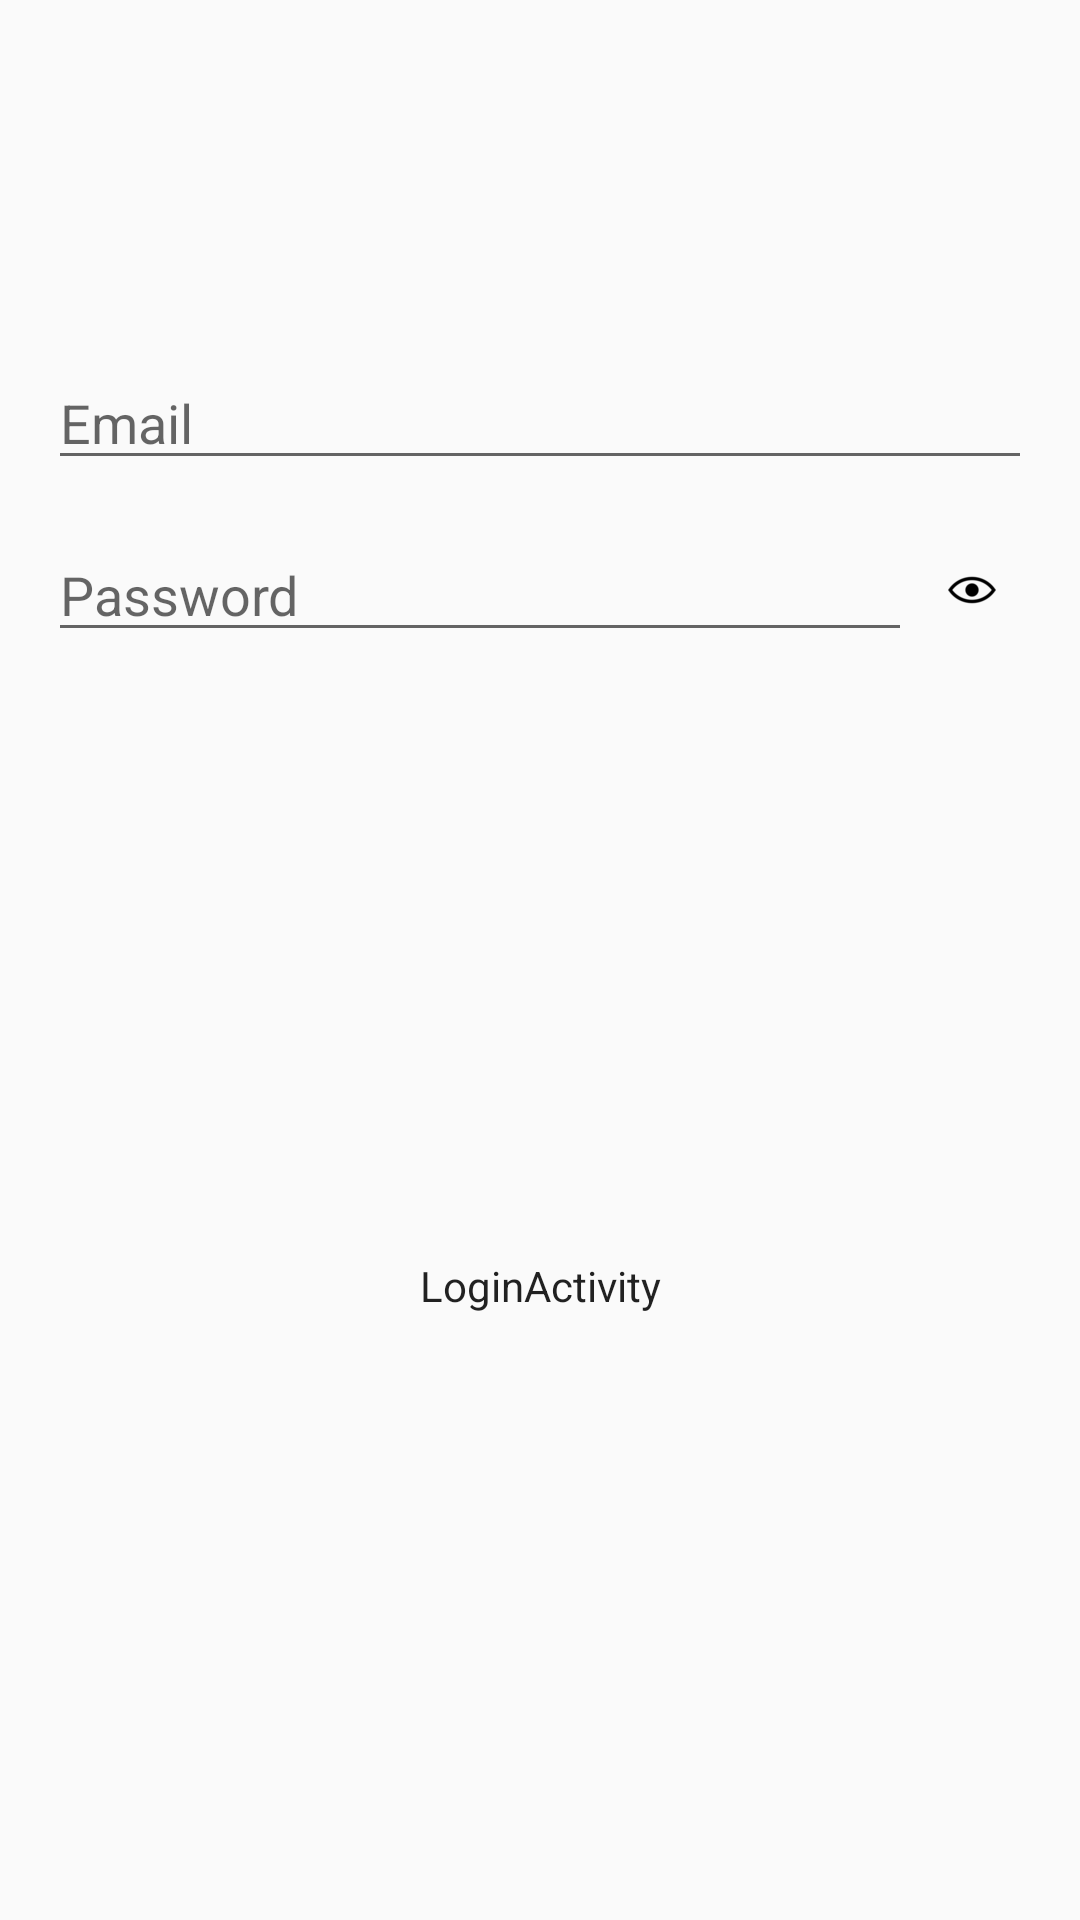

Locate icon controls on the screen. Image size 1080×1920, boxes as bbox=(x1, y1, x2, y2).
eye: bbox=(948, 576, 996, 604)
